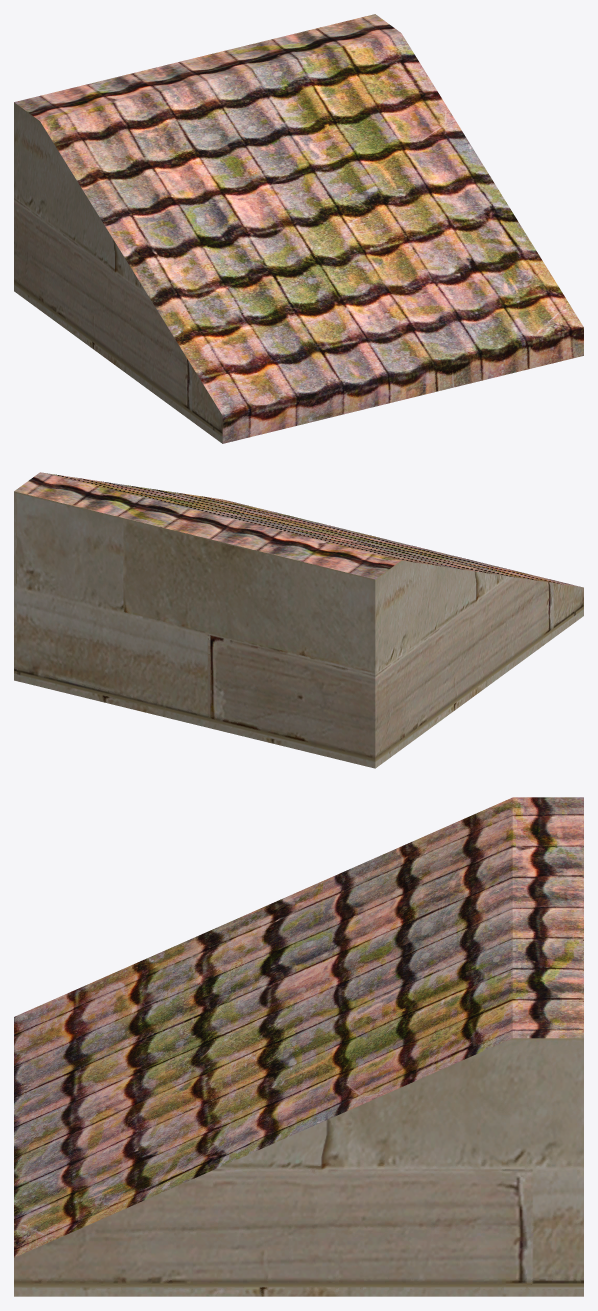
The model's file is svspartaroof3.dae.
3 renders of one model, top to bottom at view 1: azimuth 30°, elevation 25°; view 2: azimuth 150°, elevation 25°; view 3: azimuth 270°, elevation 25°, orthographic. The views are drawn at different scales.
Parts seen in each view (by area): view 1: cube12_sep27-0; view 2: cube12_sep27-0; view 3: cube12_sep27-0.
Part boxes in pixels (box(x1,y1,x2,y2)): cube12_sep27-0: box(14, 14, 583, 443); cube12_sep27-0: box(14, 472, 583, 768); cube12_sep27-0: box(14, 797, 583, 1296).
Size of the model in its own units: 150 by 75 by 150.
